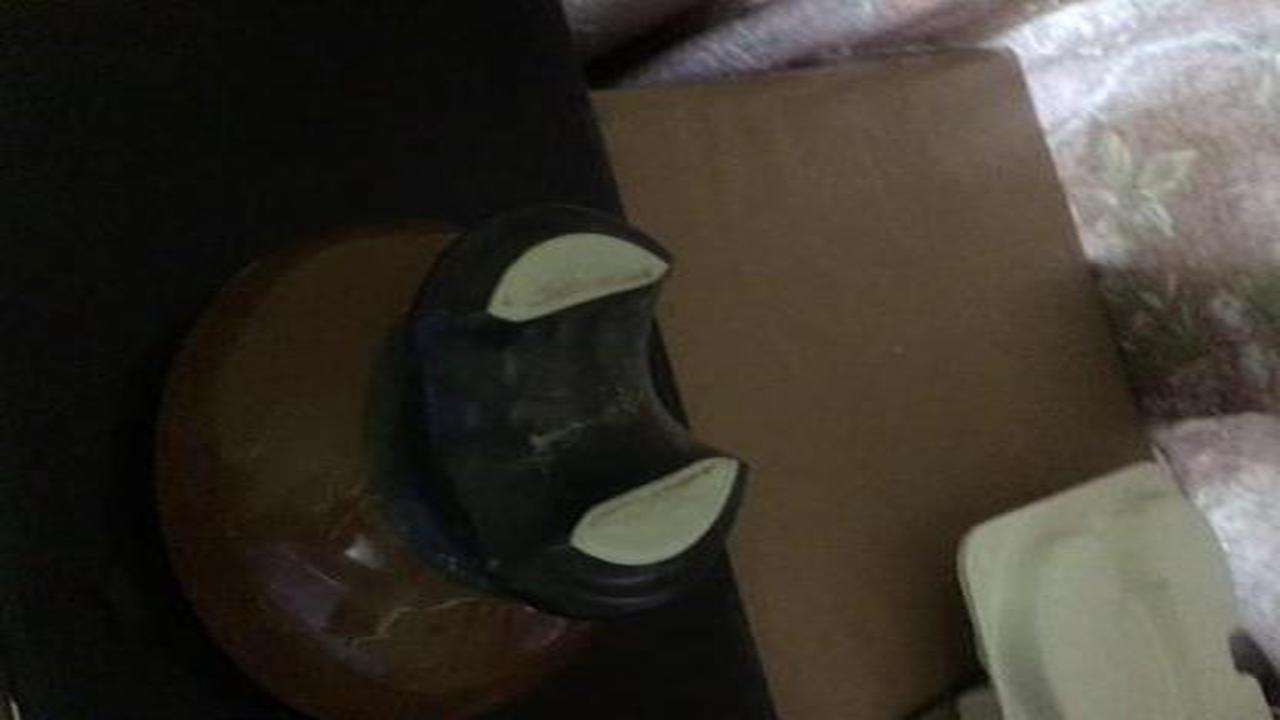insulator_pin: (127, 189, 767, 714)
